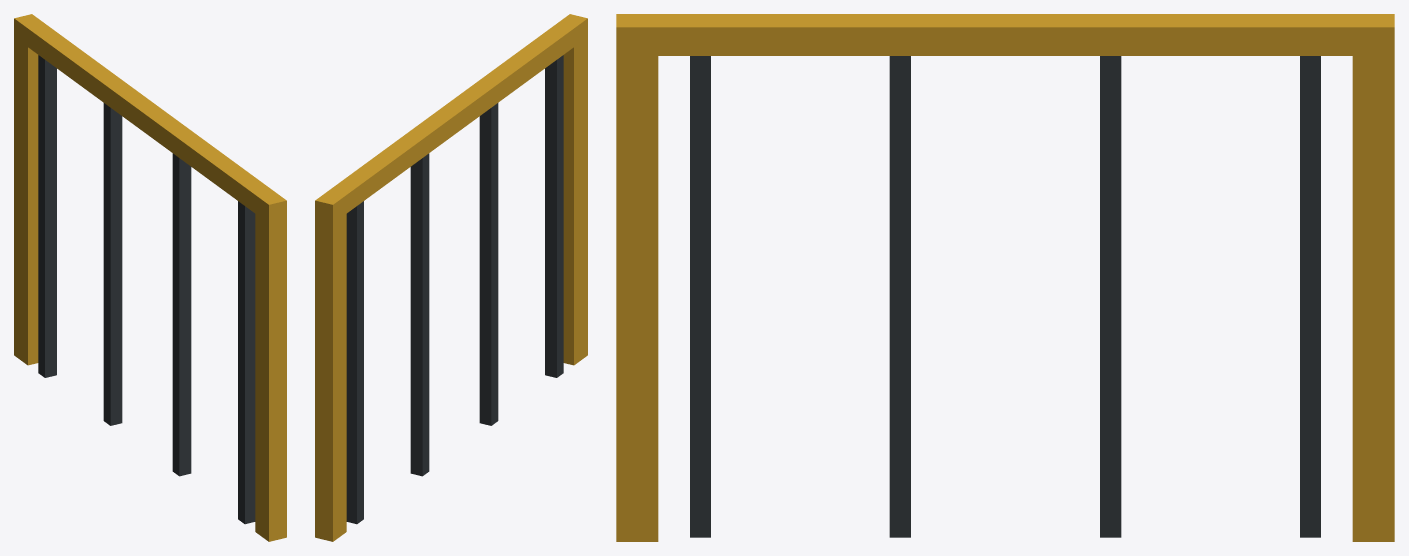
File: tow_truck_cab_guard.glb
3 views of the same model, side by side, from view 1: azimuth 30°, elevation 25°; view 2: azimuth 150°, elevation 25°; view 3: azimuth 270°, elevation 25° (orthographic). The views are drawn at different scales.
Visible parts, largest first — view 1: body:compound; view 2: body:compound; view 3: body:compound.
Boxes of the visible parts, bbox=[...] form: body:compound: bbox=[14, 14, 286, 541]; body:compound: bbox=[315, 14, 587, 541]; body:compound: bbox=[616, 14, 1394, 541].
Bounding box in the file's own units: 0.0938 × 1.69 × 2.31.
